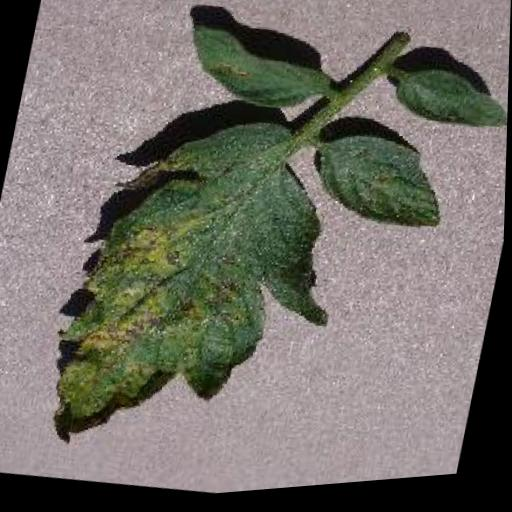Septoria: (38, 92, 364, 490)
